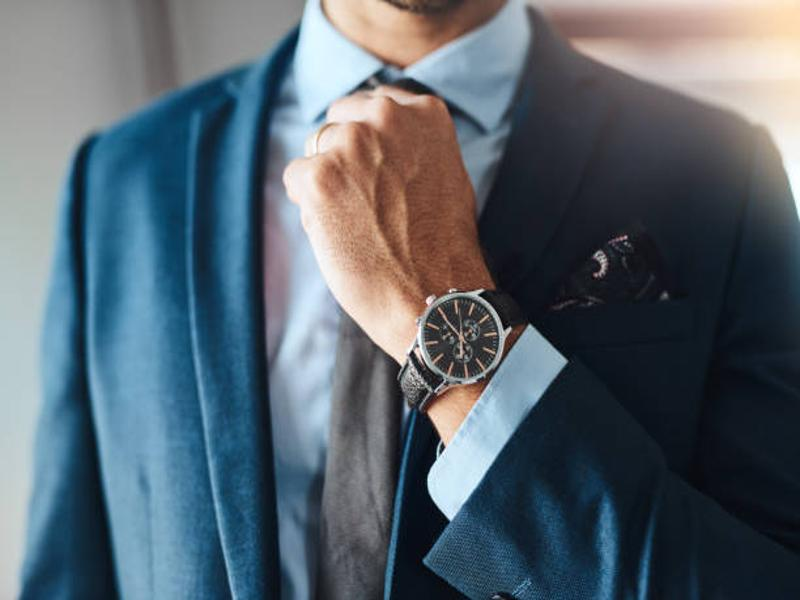watch: (396, 289, 527, 411)
